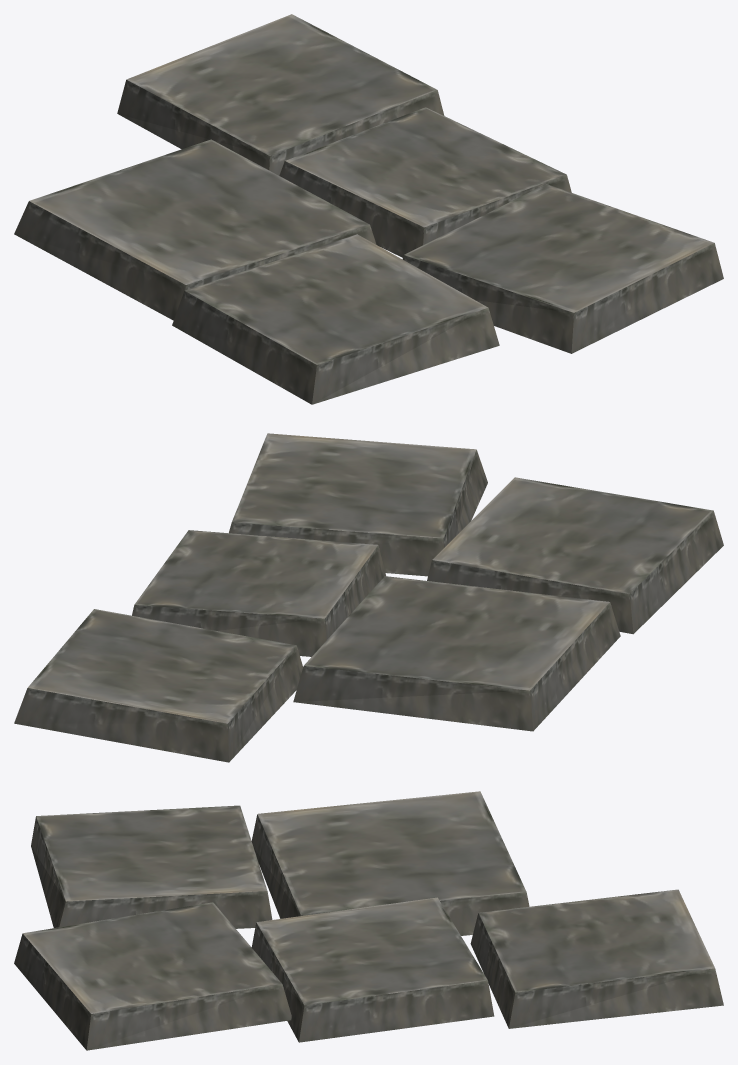
File: Floor_blocks_003.obj
3 views of the same model, one above another, from view 1: azimuth 30°, elevation 25°; view 2: azimuth 150°, elevation 25°; view 3: azimuth 270°, elevation 25° (orthographic). The views are drawn at different scales.
Parts seen in each view (by area): view 1: Floor_blocks_003; view 2: Floor_blocks_003; view 3: Floor_blocks_003.
Boxes of the visible parts, x1,y1,x2,y2 form: Floor_blocks_003: [14, 14, 723, 404]; Floor_blocks_003: [14, 433, 723, 762]; Floor_blocks_003: [14, 791, 723, 1050].
Size of the model in its own units: 16.07 by 1.53 by 21.46.
